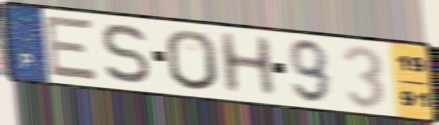3: (341, 42, 390, 113)
9: (287, 37, 335, 106)
E: (44, 13, 100, 83)
H: (215, 30, 280, 97)
O: (163, 28, 222, 93)
S: (100, 22, 153, 86)
